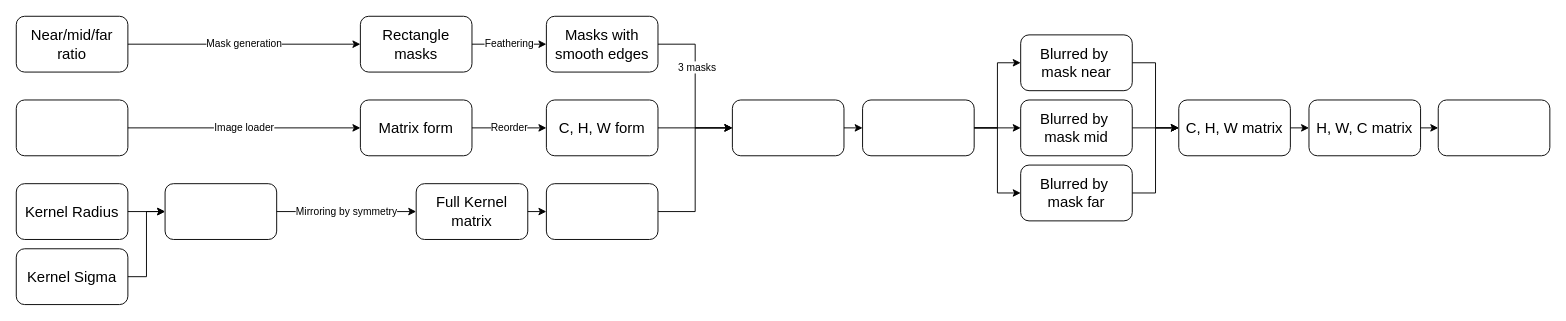
Image size: 1566x321. Some labels were removed from this diagram. Each missing label, with the box of its shape:
1/8 Kernel matrix: (164, 183, 277, 239)
Image path: (15, 99, 128, 156)
Normalize by mask and kernel: (862, 99, 974, 156)
Normalized matrix: (545, 183, 658, 239)
PNG/JPG file: (1437, 99, 1550, 156)
Product of pixel, mask, kernel: (731, 99, 844, 156)
